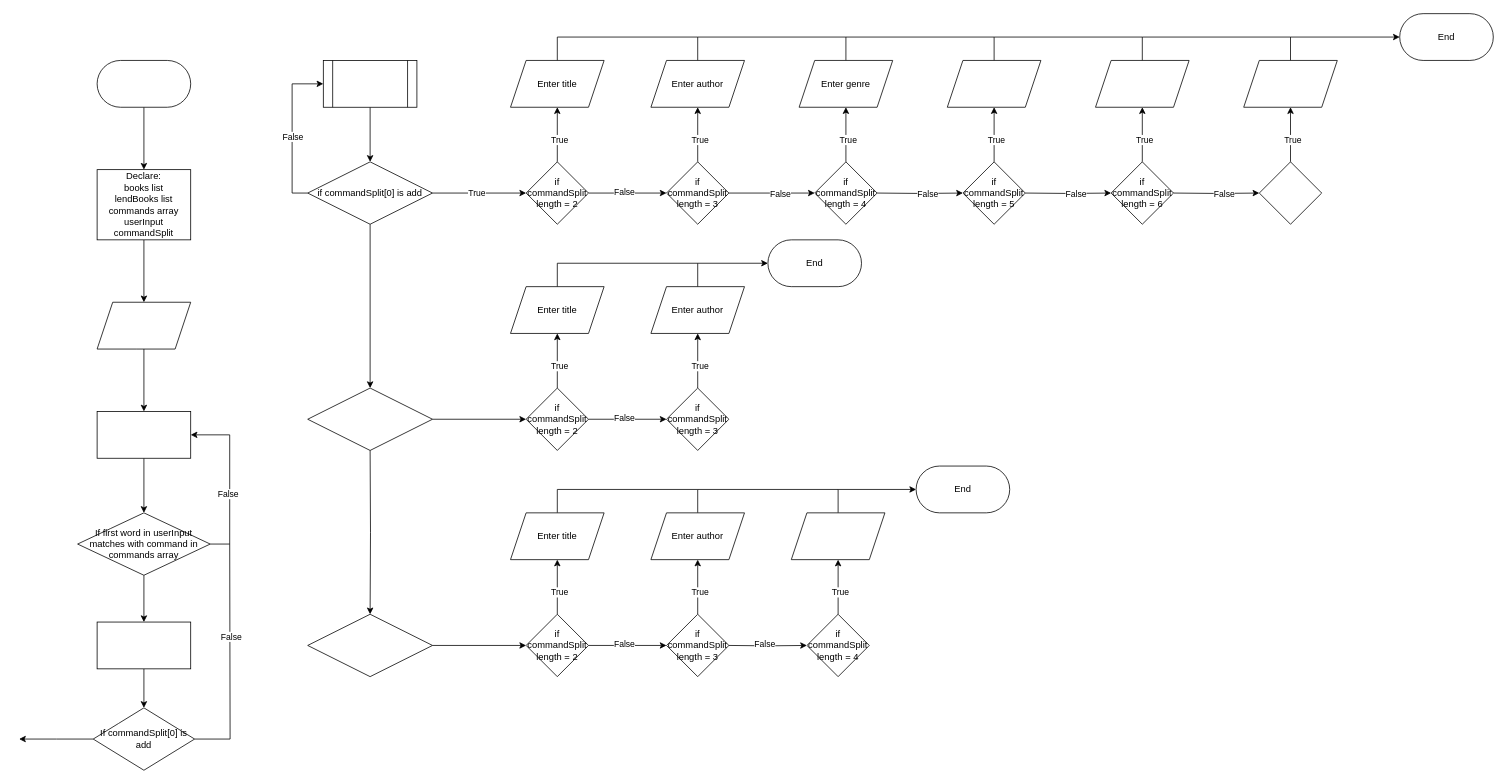
Image size: 1507x784. Some labels were removed from this diagram. Each missing label, with the centre of its shape:
Enter description: pixel 994 83
Enter pages: pixel 1142 83
Enter property(s): pixel 838 536
Enter tags: pixel 1290 83
if commandSplit length = 7: pixel 1290 192
if commandSplit[1] is edit: pixel 370 645
if commandSplit[1] is remove or print: pixel 370 418
PrintTips parameter: commandSplit: pixel 370 83
Set commandSplit to userInput split by "; ": pixel 143 645
Start: pixel 143 83
User writes in command line: pixel 143 325
userInput = command line string: pixel 143 434
